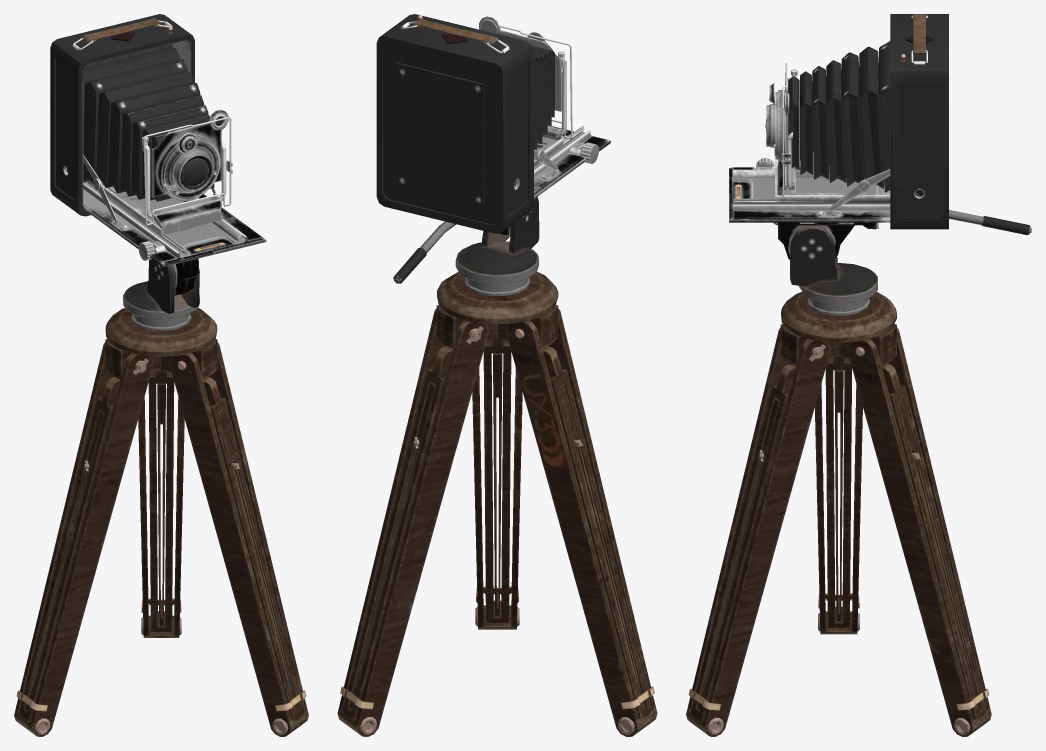
Rendered from AntiqueCamera.glb.
The picture shows the model from 3 angles, left to right: view 1: azimuth 30°, elevation 25°; view 2: azimuth 150°, elevation 25°; view 3: azimuth 270°, elevation 25°; orthographic projection. The views are drawn at different scales.
Parts seen in each view (by area): view 1: tripod, camera; view 2: tripod, camera; view 3: tripod, camera.
Part boxes in pixels (x1,y1,x2,y2): tripod: [14, 258, 308, 736]; camera: [50, 14, 266, 266]; tripod: [337, 197, 657, 736]; camera: [376, 14, 610, 233]; tripod: [686, 210, 1031, 736]; camera: [729, 14, 948, 229].
Size of the model in its own units: 2.6 by 7.21 by 3.39.
2 materials, 2 textured.
